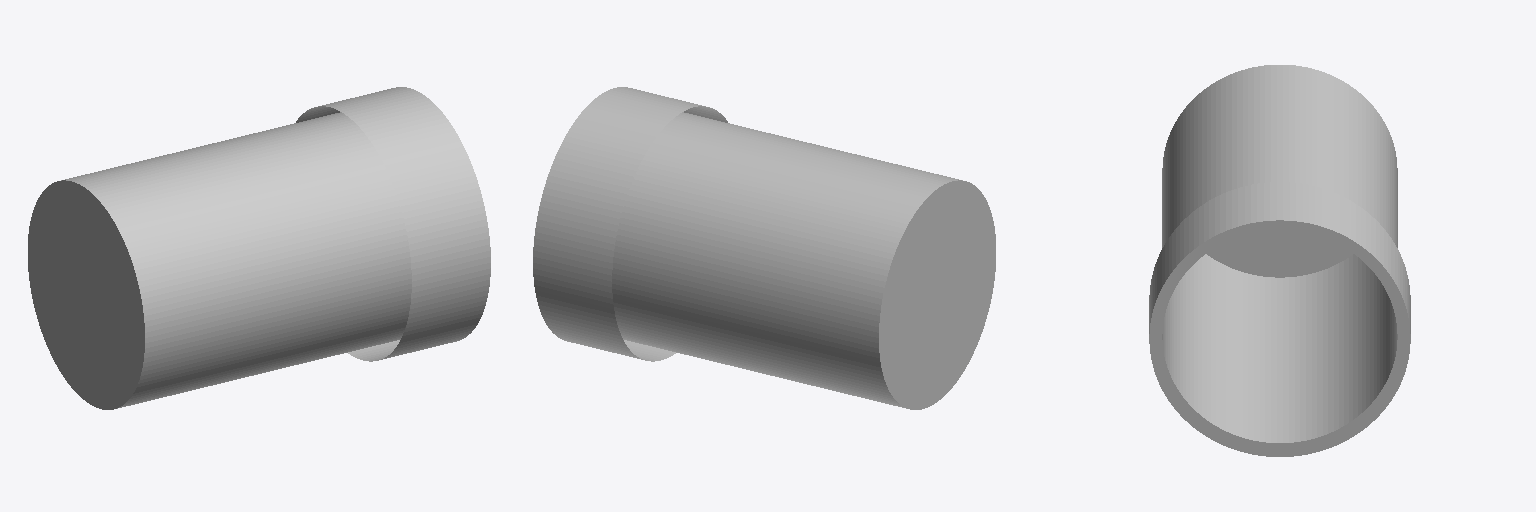
The model's file is heater_outlet_pipe.obj.
3 views of the same model, side by side, from view 1: azimuth 30°, elevation 25°; view 2: azimuth 150°, elevation 25°; view 3: azimuth 270°, elevation 25° (orthographic).
Parts seen in each view (by area): view 1: obj1; view 2: obj1; view 3: obj1.
Part boxes in pixels (x1,y1,x2,y2): obj1: (28,87,490,409); obj1: (533,87,995,409); obj1: (1149,65,1410,456).
Size of the model in its own units: 3 by 2 by 2.